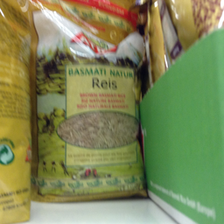rice: (29, 2, 146, 200)
